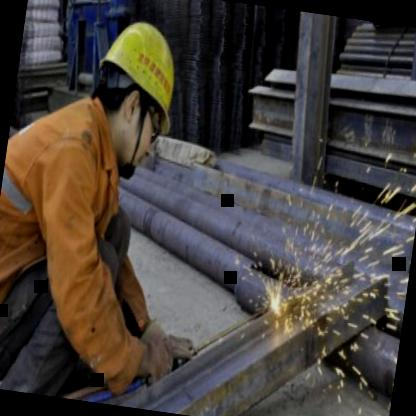helmet: (78, 2, 197, 184)
